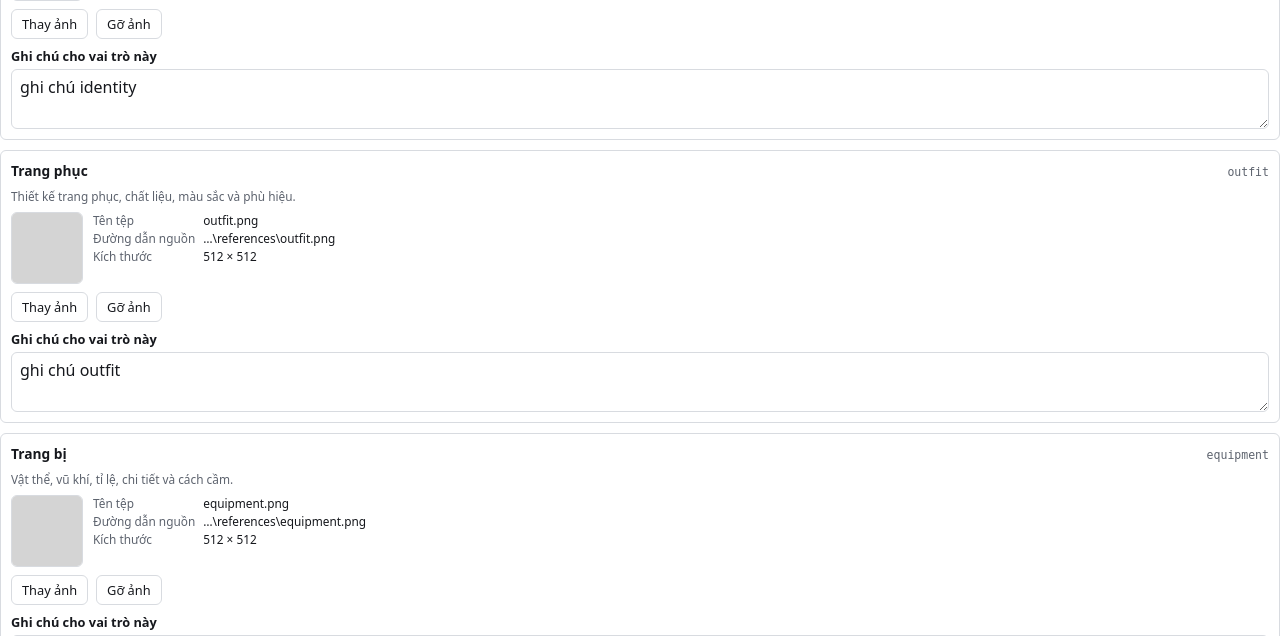
it: replacing one slot leaves the others untouched (spec section 14.2) › rewrites outfit and nothing else
(page scrolled)
Click the button "Thay ảnh" below "…\\references\\outfit.png" at {"x": 50, "y": 307}, box 11,292 -> 88,322
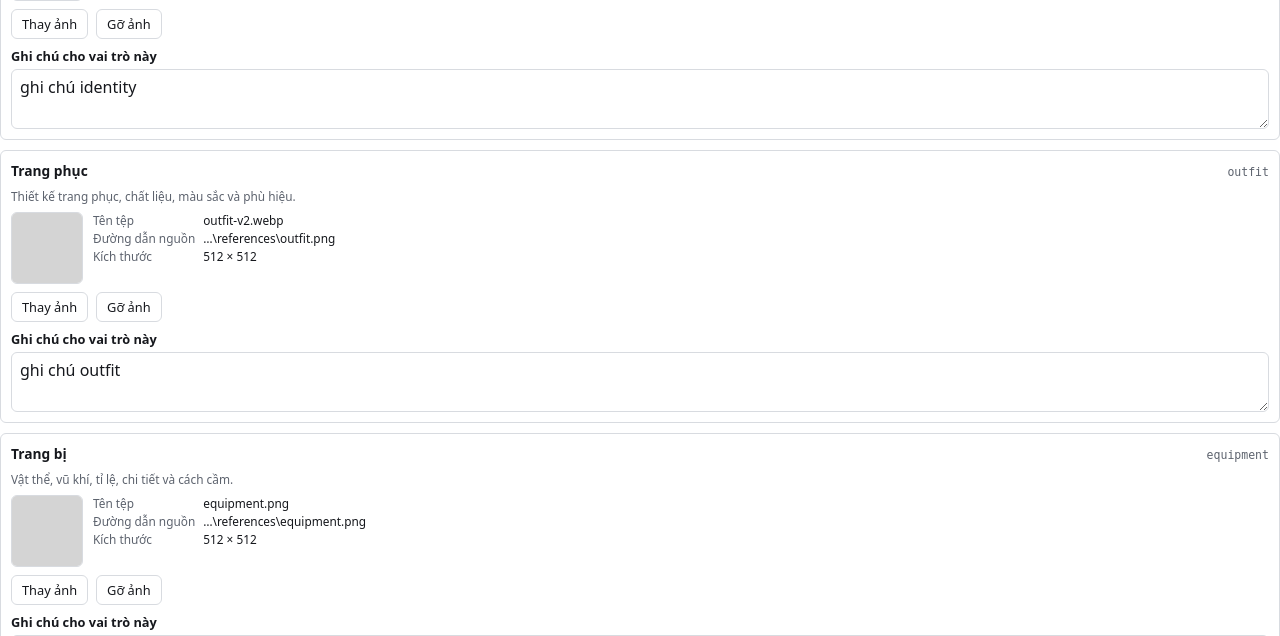
Expected: the text "outfit-v2.webp" is shown, 203,212 -> 284,228
